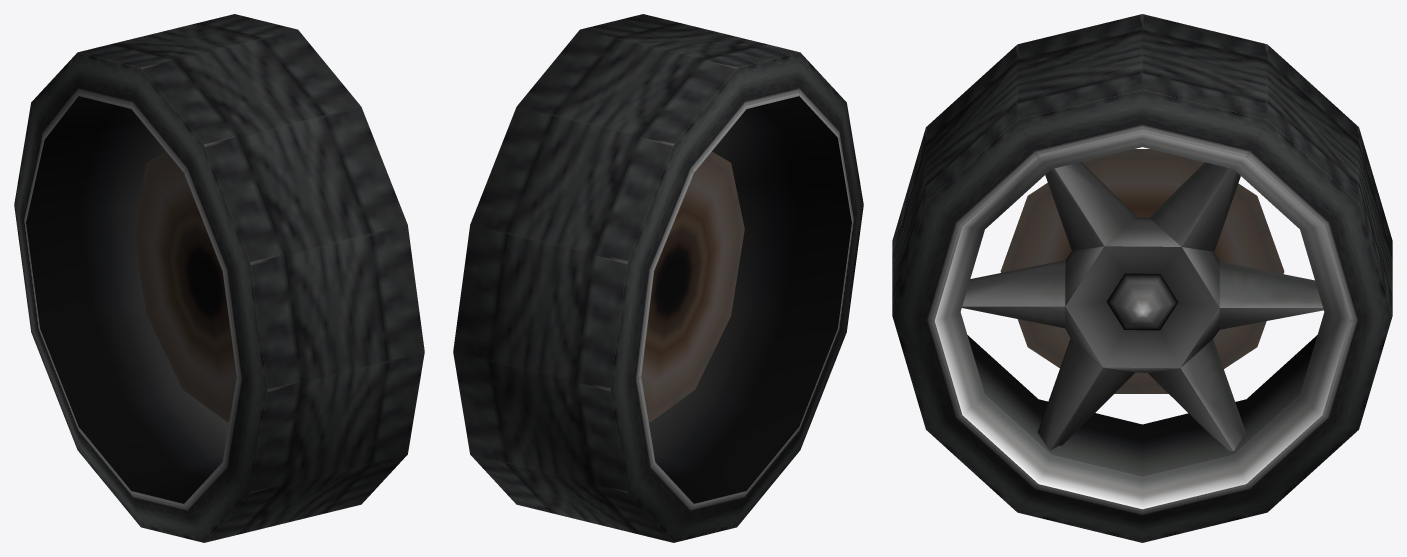
The model's file is DefaultWheel_cheetah.glb.
3 views of the same model, side by side, from view 1: azimuth 30°, elevation 25°; view 2: azimuth 150°, elevation 25°; view 3: azimuth 270°, elevation 25° (orthographic).
Parts seen in each view (by area): view 1: wheel; view 2: wheel; view 3: wheel.
Boxes of the visible parts, x1,y1,x2,y2 form: wheel: (14, 14, 424, 542); wheel: (453, 14, 863, 542); wheel: (892, 14, 1392, 542).
Size of the model in its own units: 0.2764 by 0.6884 by 0.6884.
Materials: 3 (3 with a texture image).
